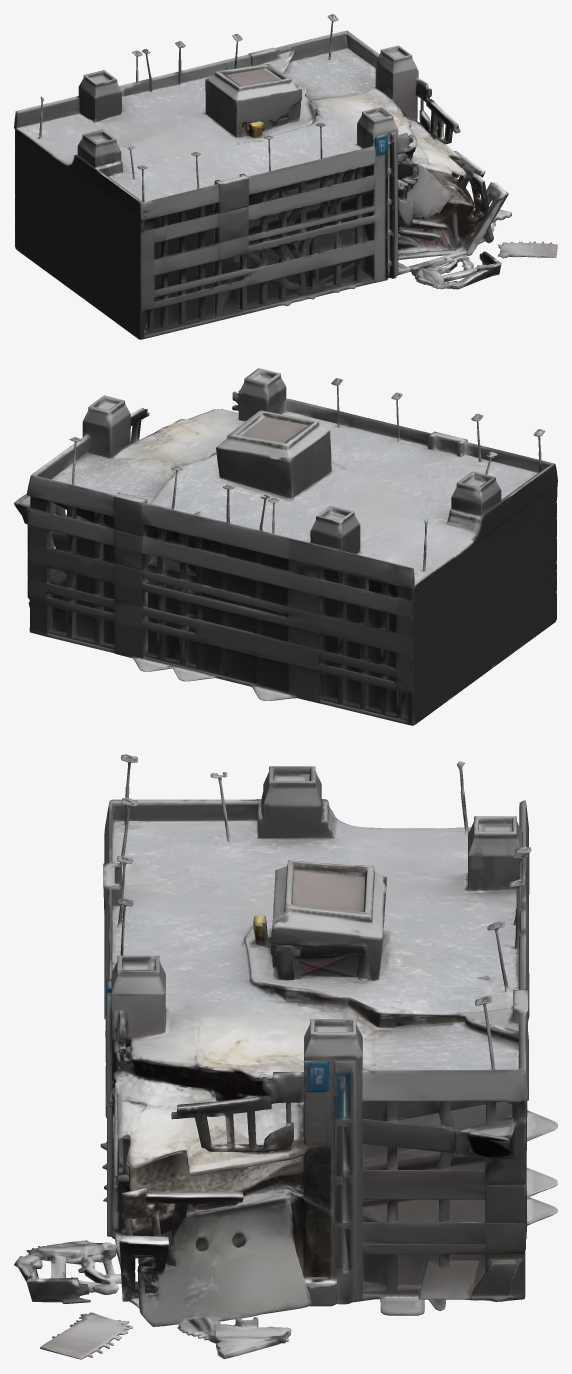
3 renders of one model, top to bottom at view 1: azimuth 30°, elevation 25°; view 2: azimuth 150°, elevation 25°; view 3: azimuth 270°, elevation 25°, orthographic. The views are drawn at different scales.
Visible parts, largest first — view 1: node_0.027; view 2: node_0.027; view 3: node_0.027.
Part boxes in pixels (x1,y1,x2,y2): node_0.027: [14, 14, 557, 339]; node_0.027: [14, 368, 557, 725]; node_0.027: [14, 754, 557, 1359].
Bounding box in the file's own units: 3.49 × 1.44 × 2.4.
Materials: 1 (1 with a texture image).
